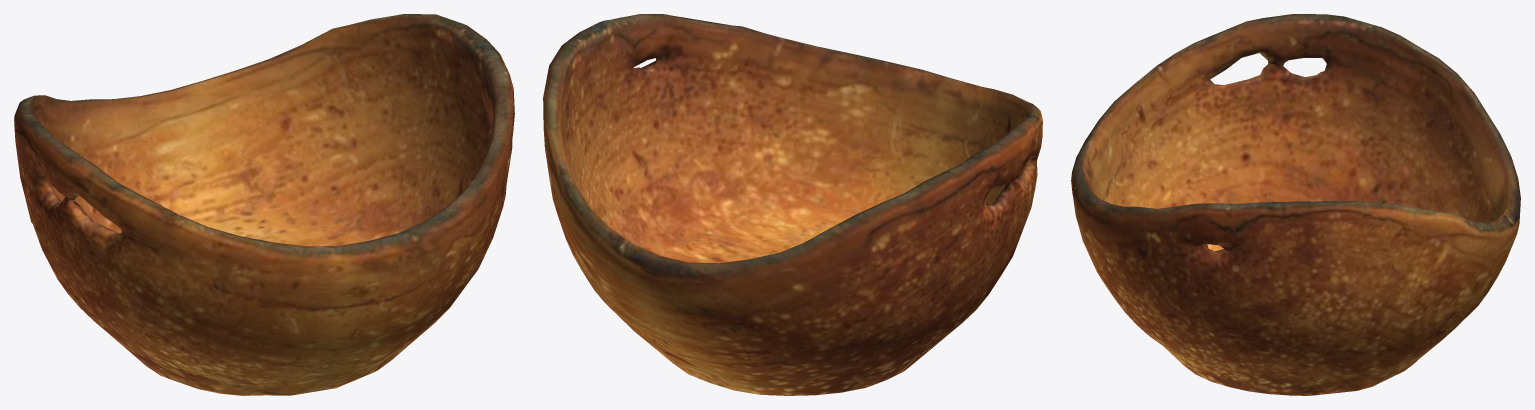
Rendered from ph-wooden_bowl_02.glb.
3 views of the same model, side by side, from view 1: azimuth 30°, elevation 25°; view 2: azimuth 150°, elevation 25°; view 3: azimuth 270°, elevation 25° (orthographic). The views are drawn at different scales.
Visible parts, largest first — view 1: wooden_bowl_02; view 2: wooden_bowl_02; view 3: wooden_bowl_02.
Boxes of the visible parts, x1,y1,x2,y2 form: wooden_bowl_02: (14, 14, 514, 395); wooden_bowl_02: (543, 14, 1042, 395); wooden_bowl_02: (1071, 14, 1520, 395).
Size of the model in its own units: 0.1307 by 0.0731 by 0.1245.
1 material, 1 textured.
